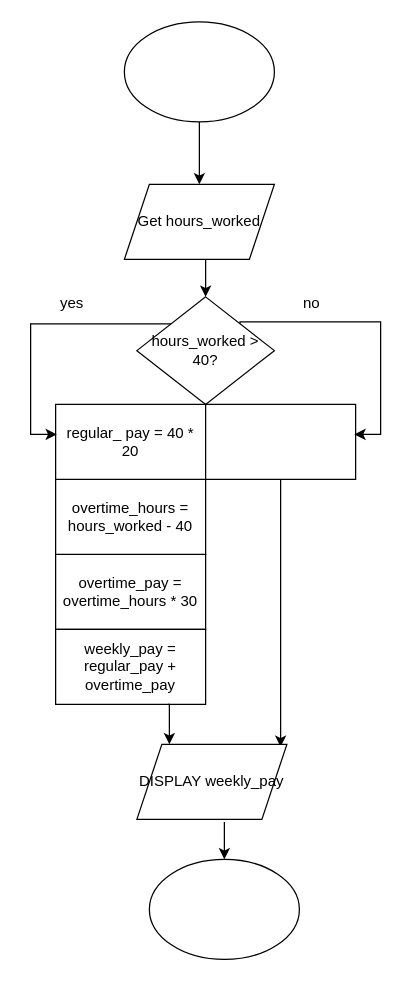
The diagram is 413 pixels wide and 981 high, and some of its shapes have lost their labels. Each missing label, with the centre of its shape:
"END" goes at (223,908).
"start" goes at (198,71).
"weekly_pay = hours_worked * 20" goes at (280,441).
